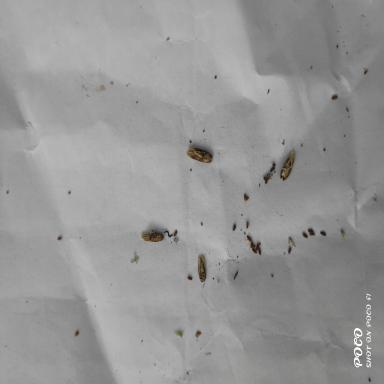pbw: (280, 143, 295, 181), (186, 146, 213, 163), (140, 231, 165, 242), (198, 255, 206, 282)
